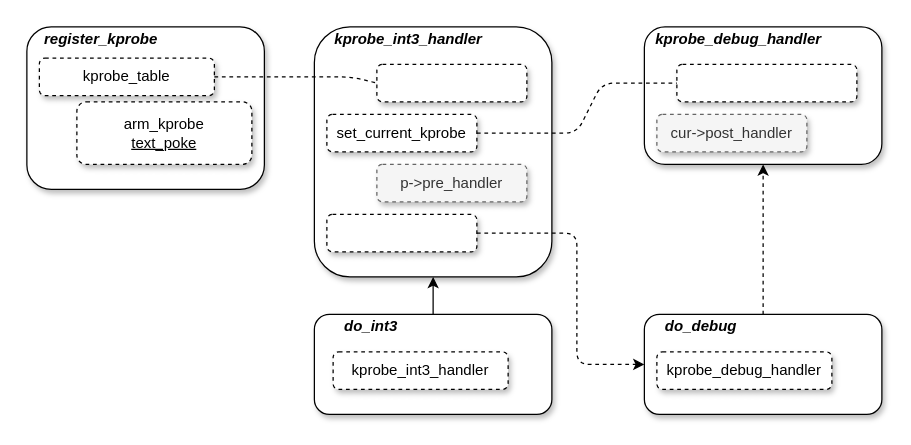
The diagram is 911 pixels wide and 445 high, and some of its shapes have lost their labels. The centre of each missing label's shape, as x and y in pixels:
cur = kprobe_running(): point 767,84
get_kprobe: point 452,84
setup_singlestep: point 402,234
